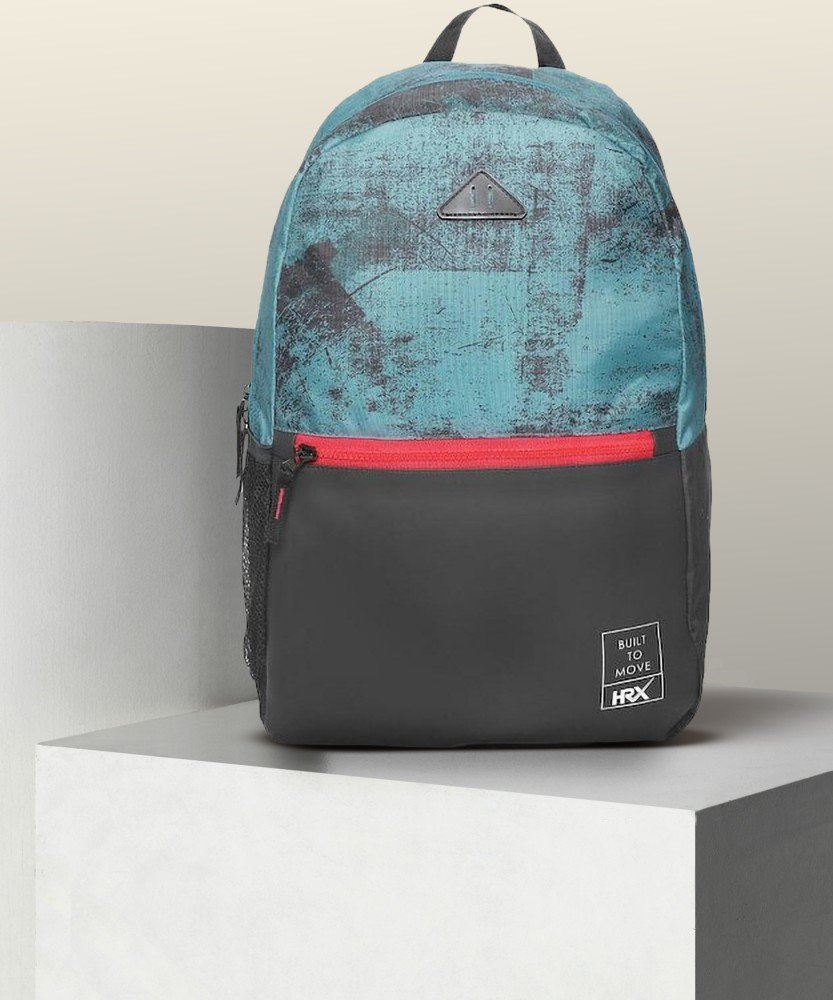backpack: (233, 2, 713, 749)
